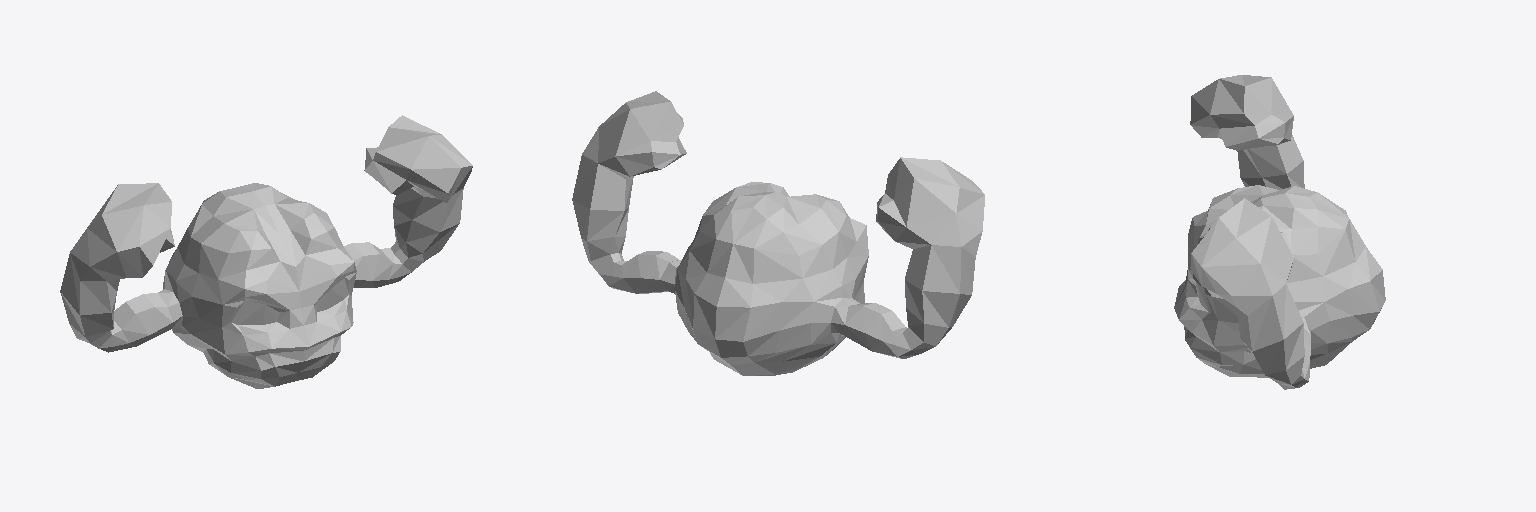
Rendered from Geodude.obj.
3 views of the same model, side by side, from view 1: azimuth 30°, elevation 25°; view 2: azimuth 150°, elevation 25°; view 3: azimuth 270°, elevation 25° (orthographic).
Visible parts, largest first — view 1: Mesh; view 2: Mesh; view 3: Mesh.
Part boxes in pixels (bbox=[...]): Mesh: bbox=[60, 115, 472, 388]; Mesh: bbox=[572, 91, 984, 375]; Mesh: bbox=[1174, 75, 1385, 389].
Bounding box in the file's own units: 2.14 × 1.2 × 1.01.